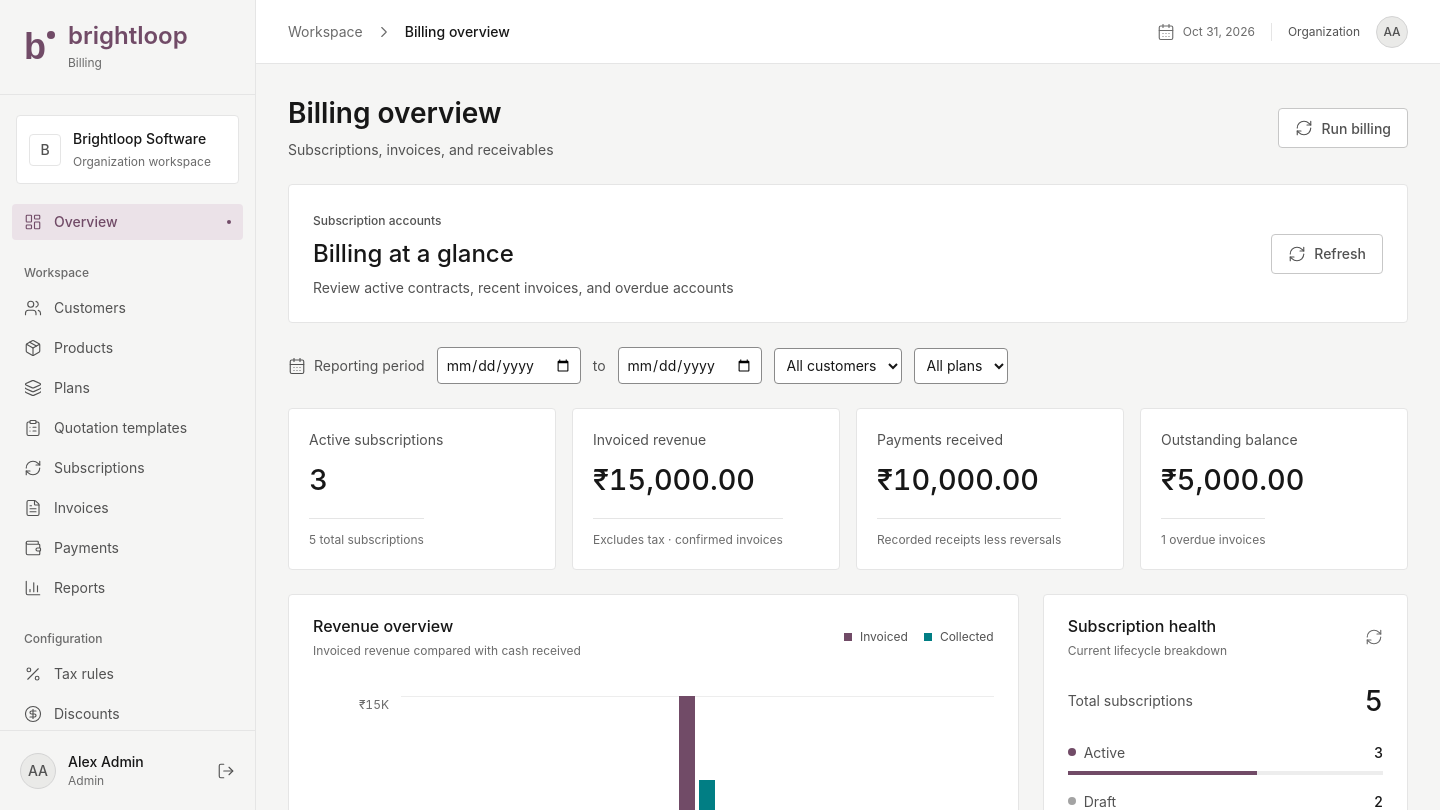
workspace permissions and real mutations › announces the selected navigation item and provides a clearly named sign-out action
Click the button "Invoices" at x=128, y=508, box x1=12 y1=490 x2=243 y2=526
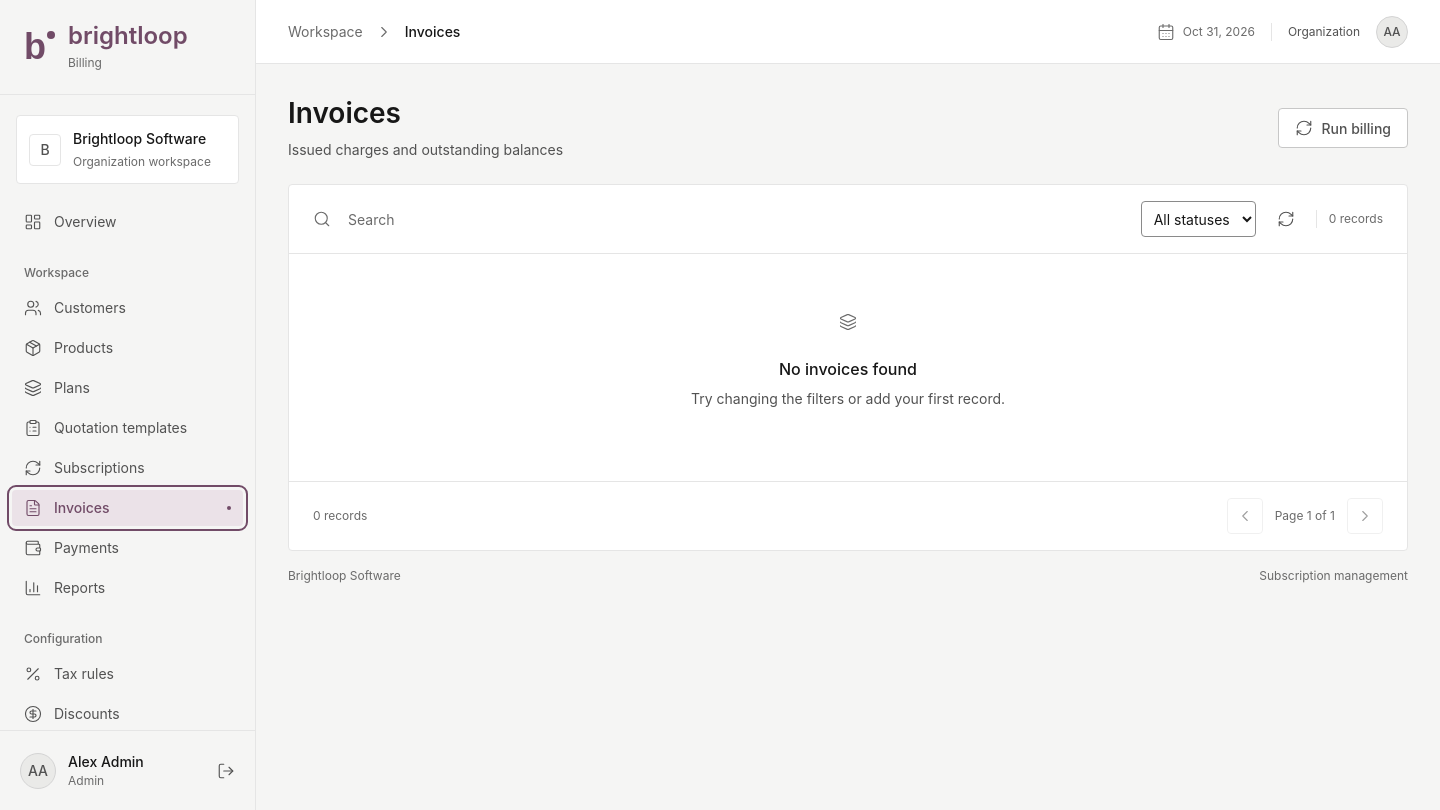
Result: the button "Invoices" is marked as current at x1=12 y1=490 x2=243 y2=526
Result: the button "Overview" does not have attribute aria-current at x1=12 y1=204 x2=243 y2=240
Click the button with aria-label "Sign out" at x=128, y=770, box x1=16 y1=747 x2=239 y2=794
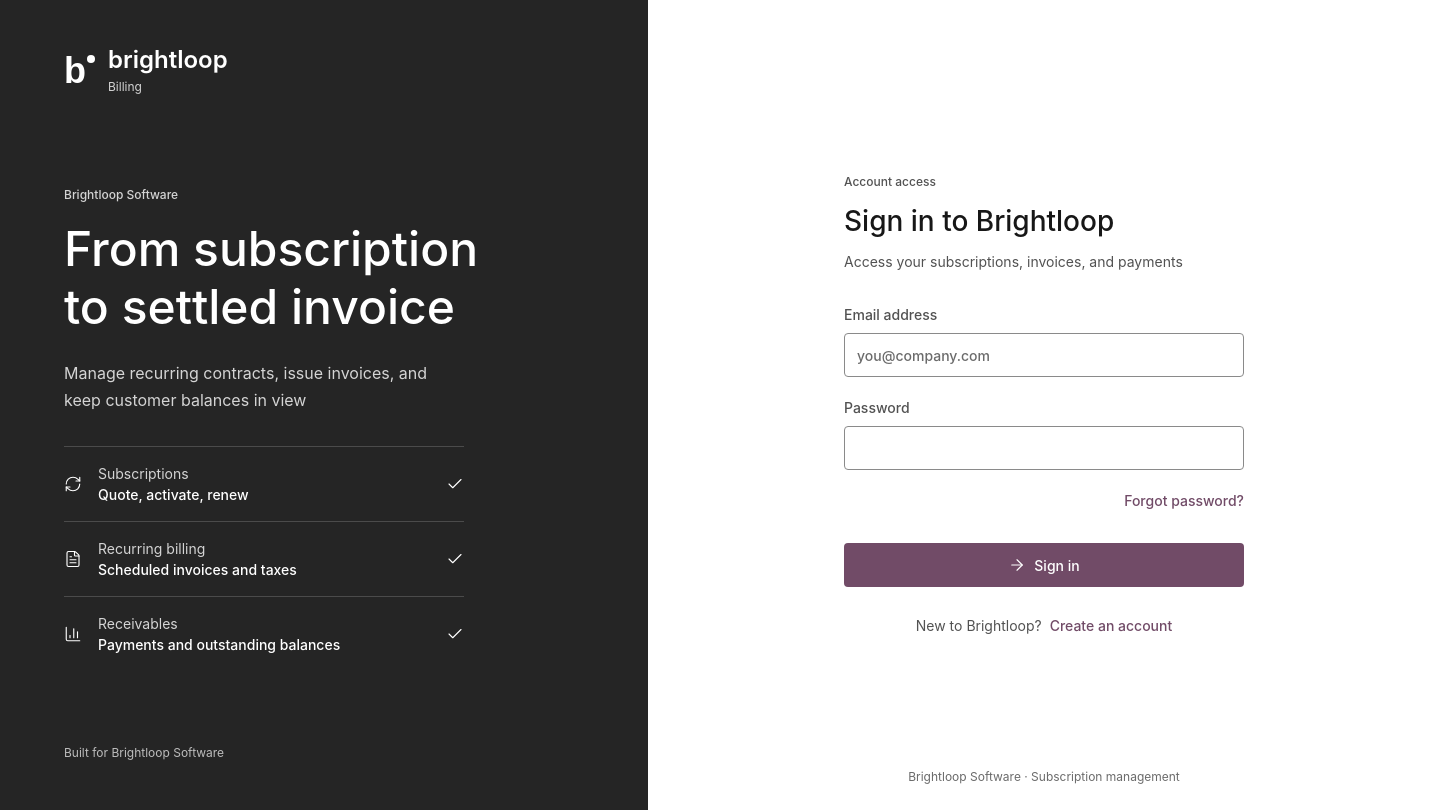
Result: the heading "Sign in to Brightloop" is shown at x1=844 y1=204 x2=1114 y2=238
